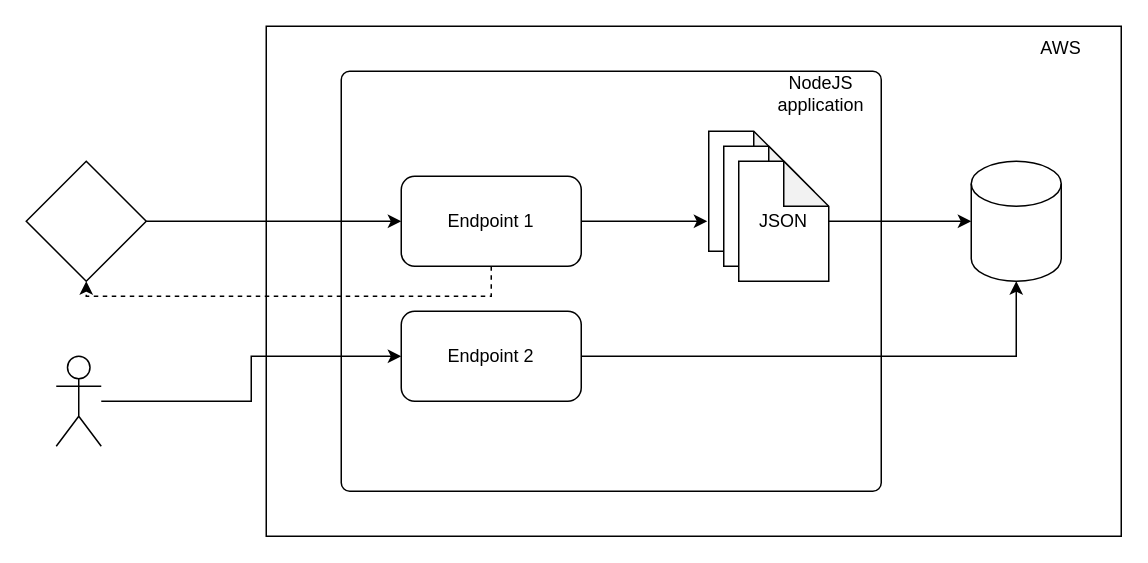
Image size: 1148x563. Some labels were removed from this diagram. The shapes that lost their labels are listed below. From the top down, each one's centre as x and y in pixels, then its label:
At [85,220]: "PokeAPI".
At [1015,220]: "MongoDB".
At [78,400]: "Investor".
